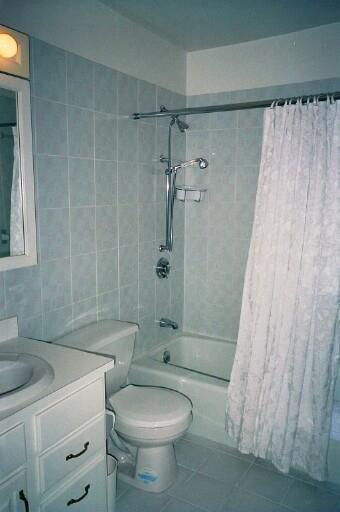Ducha: (155, 109, 339, 466)
Sanitario: (54, 320, 191, 501)
